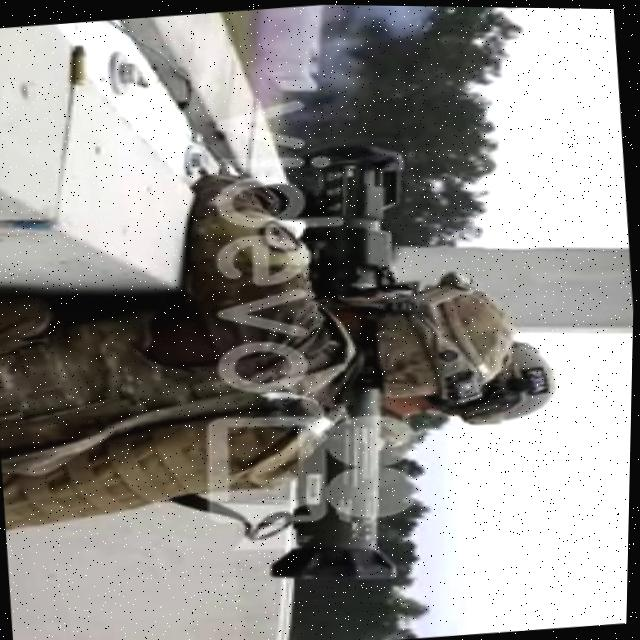rocket: (223, 135, 451, 590)
